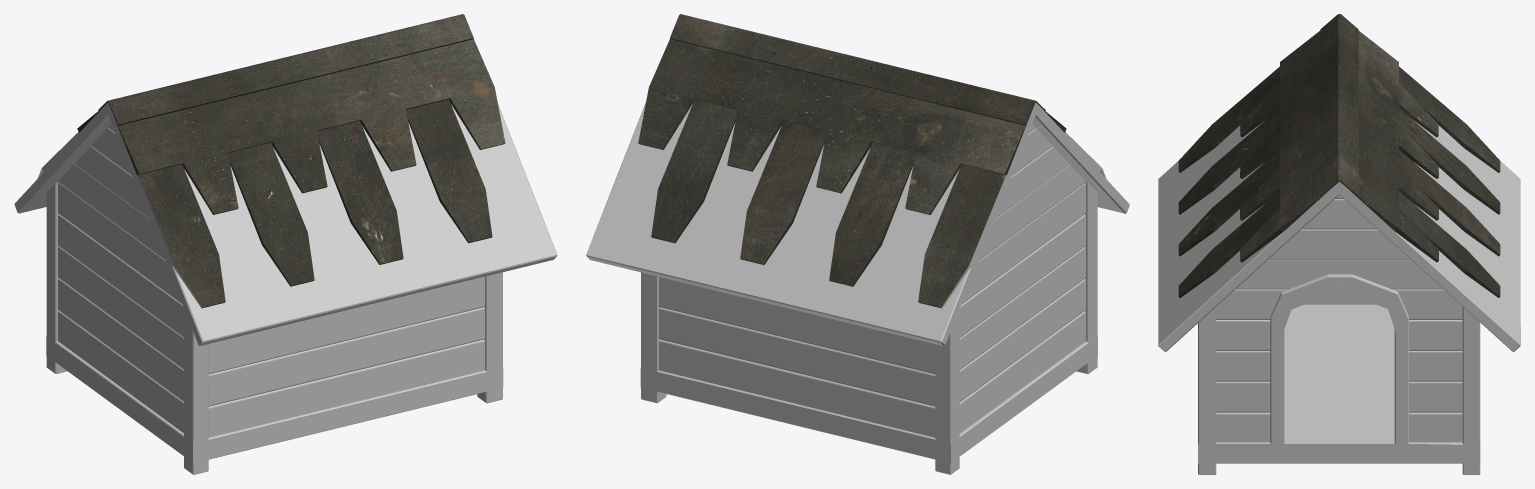
File: doghouse.FBX
The picture shows the model from 3 angles, left to right: view 1: azimuth 30°, elevation 25°; view 2: azimuth 150°, elevation 25°; view 3: azimuth 270°, elevation 25°; orthographic projection. The views are drawn at different scales.
Parts seen in each view (by area): view 1: Doghouse; view 2: Doghouse; view 3: Doghouse.
Boxes of the visible parts, x1=… form: Doghouse: x1=14, y1=14, x2=557, y2=474; Doghouse: x1=586, y1=14, x2=1129, y2=474; Doghouse: x1=1158, y1=14, x2=1520, y2=474.
Size of the model in its own units: 320 by 278 by 294.
